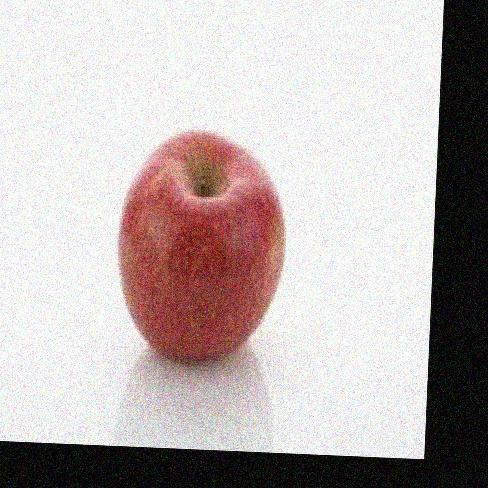red apple: (114, 127, 284, 365)
